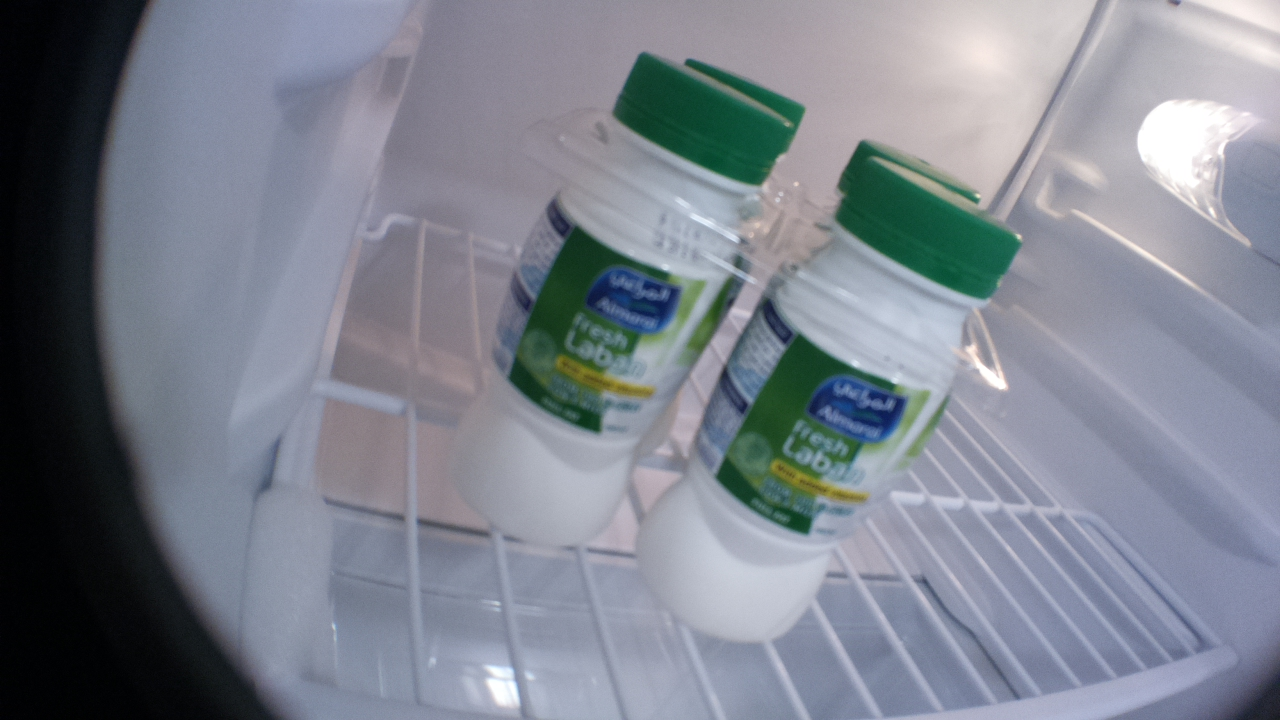laban: (633, 154, 1023, 643), (450, 49, 791, 544), (838, 137, 980, 220), (682, 54, 806, 134)
